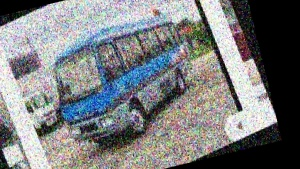bus: (31, 0, 215, 166)
